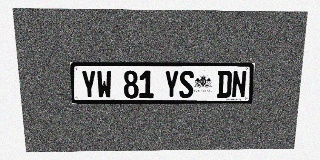1: (139, 70, 154, 98)
8: (123, 70, 139, 98)
D: (217, 71, 232, 98)
N: (231, 71, 247, 98)
S: (179, 71, 194, 98)
W: (96, 70, 112, 98)
Y: (81, 70, 97, 98), (164, 71, 179, 98)
